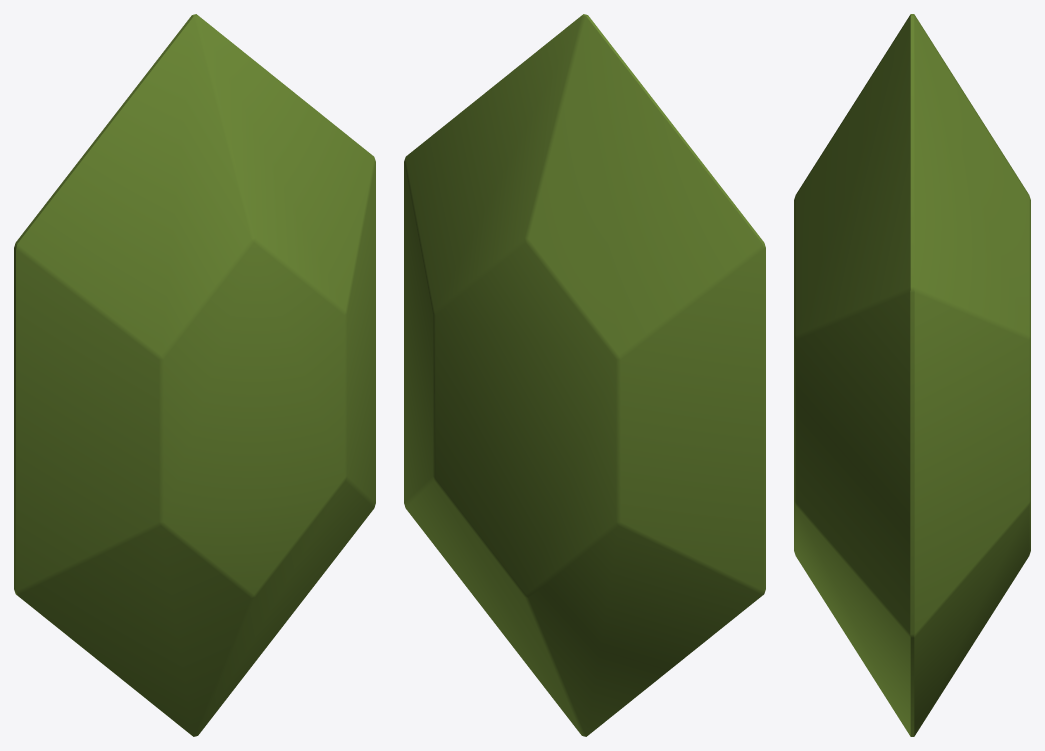
Rendered from SmoothRupee.glb.
The picture shows the model from 3 angles, left to right: view 1: azimuth 30°, elevation 25°; view 2: azimuth 150°, elevation 25°; view 3: azimuth 270°, elevation 25°; orthographic projection.
Visible parts, largest first — view 1: Cube.001; view 2: Cube.001; view 3: Cube.001.
Boxes of the visible parts, bbox=[...] form: Cube.001: bbox=[14, 14, 375, 736]; Cube.001: bbox=[404, 14, 765, 736]; Cube.001: bbox=[794, 14, 1030, 736].
Size of the model in its own units: 0.192 by 0.3674 by 0.1093.
